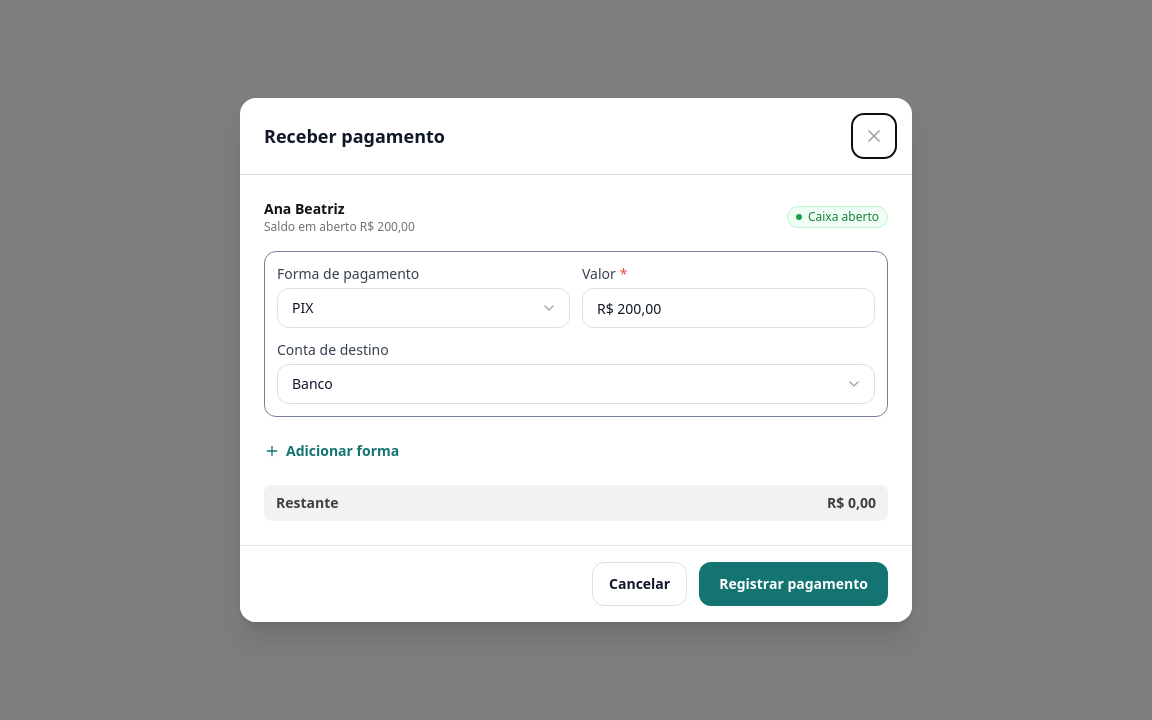
Test: ReceivePaymentModal › parcelas do crédito vão só até o máximo configurado
The image size is (1152, 720).
Expected: the field labelled "Parcelas" is not shown
Step 1. Select "Cartão de crédito" in the dropdown labelled "Forma de pagamento" → (424, 308), box [277,288,570,328]
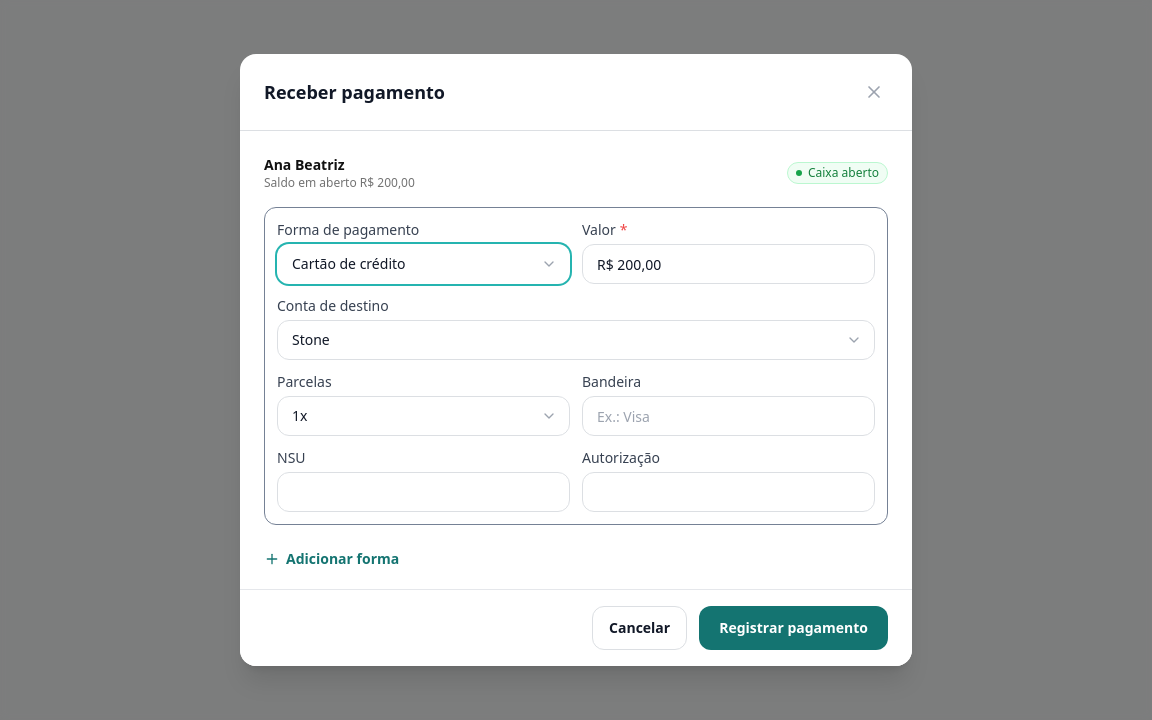
Now the field labelled "NSU" is shown, box [277,472,570,512]
Now the field labelled "Autorização" is shown, box [582,472,875,512]
